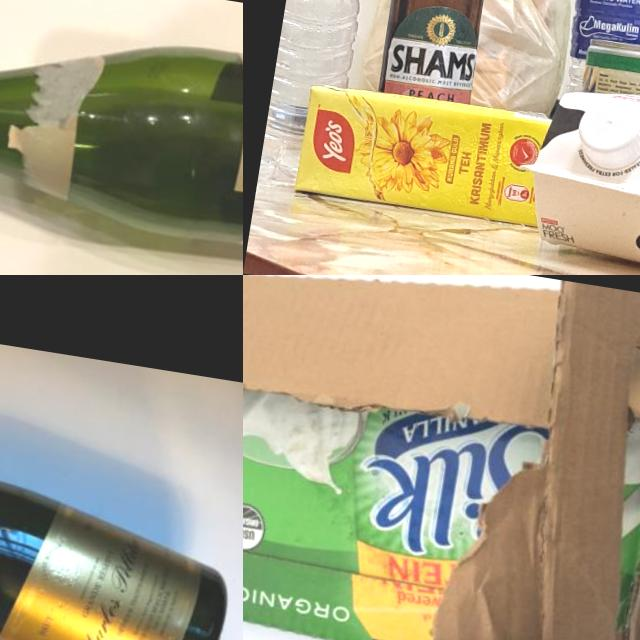caixinha: (296, 80, 573, 236), (519, 67, 640, 275)
garrafa de vidro: (0, 0, 243, 270), (0, 418, 243, 640), (372, 0, 514, 127)
garrafa plástica: (255, 0, 411, 208), (561, 0, 640, 130)
lata: (578, 29, 640, 136)
papelão: (243, 275, 640, 640)
tampa plástica: (574, 91, 640, 170)
